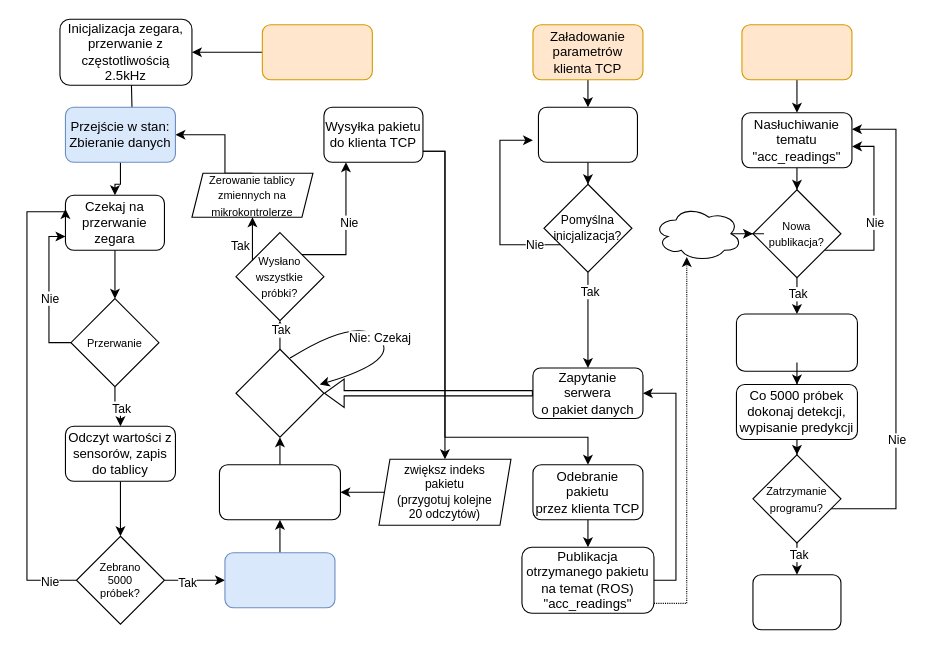
Some shapes in this 925 by 649 pixel diagram are drawn without their labels. The shapes that lost their labels are listed below. From the top down, each one's centre as x and y in pixels, then its label:
point (316, 52): Inicjalizacja sensorów oraz servera TCP
point (796, 52): Załadowanie parametrów detektora
point (587, 134): Inicjalizacja połączenia z serwerem
point (697, 233): tematy ROS
point (796, 342): Rozszerz tablice danych o nowy pakiet
point (279, 392): Zapytanie klienta o dane?
point (279, 492): Przygotowanie pakietu 20 odczytów do wysyłki
point (279, 580): Przejście w stan: Wysyłanie danych
point (796, 602): Zapis tablicy danych do pliku csv
